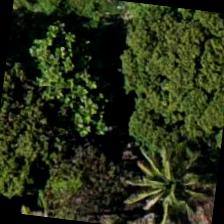Kelapa_Sawit: (135, 151, 219, 223)
